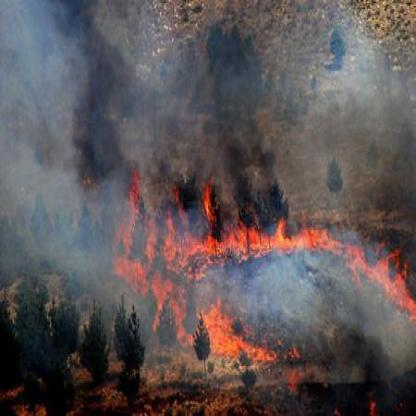fire: (118, 169, 412, 359)
